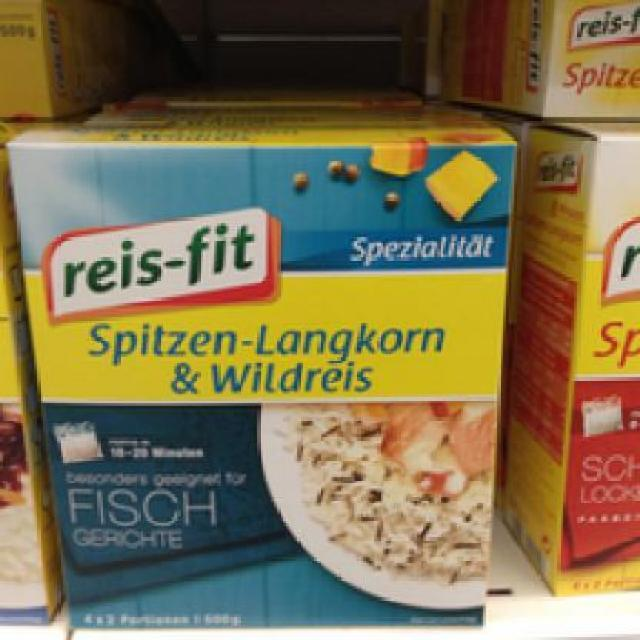Rice: (6, 116, 514, 630)
